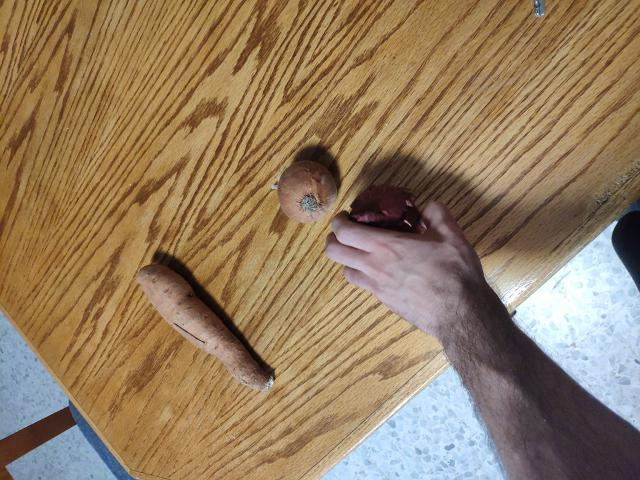onion: (349, 189, 416, 238)
